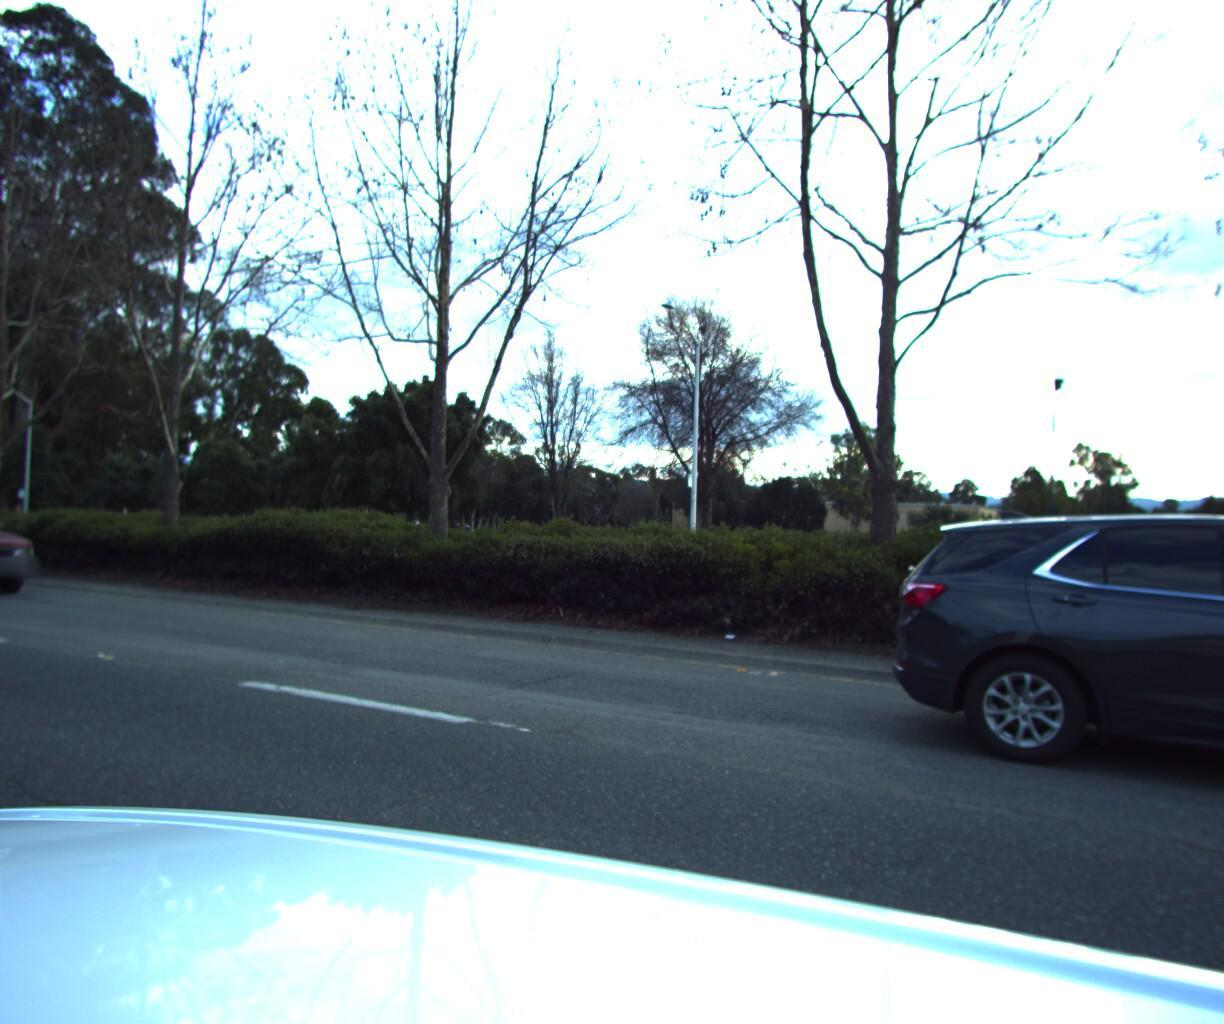car: (851, 508, 1224, 900), (0, 493, 53, 604)
